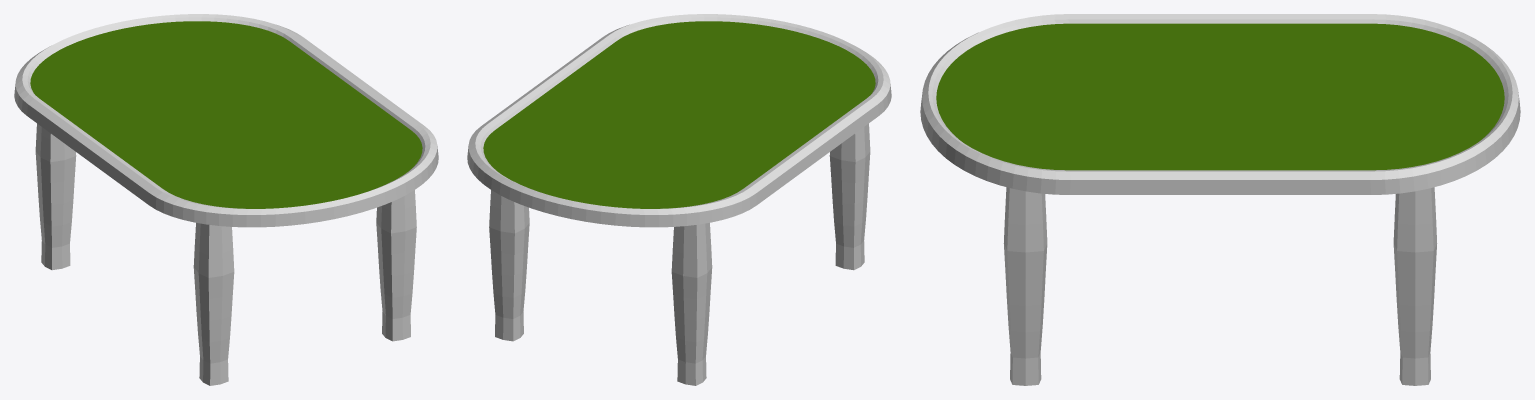
File: PokerTable.fbx
The picture shows the model from 3 angles, left to right: view 1: azimuth 30°, elevation 25°; view 2: azimuth 150°, elevation 25°; view 3: azimuth 270°, elevation 25°; orthographic projection. The views are drawn at different scales.
Parts seen in each view (by area): view 1: PokerTabelTop, PokerTableLegs, PokerTabelOut; view 2: PokerTabelTop, PokerTableLegs, PokerTabelOut; view 3: PokerTabelTop, PokerTabelOut, PokerTableLegs.
Part boxes in pixels (left/top/right/bottom): PokerTabelTop: left=30, top=21, right=422, bottom=208; PokerTableLegs: left=35, top=123, right=416, bottom=385; PokerTabelOut: left=14, top=14, right=438, bottom=227; PokerTabelTop: left=483, top=21, right=875, bottom=208; PokerTableLegs: left=489, top=123, right=870, bottom=385; PokerTabelOut: left=467, top=14, right=891, bottom=227; PokerTabelTop: left=936, top=23, right=1504, bottom=170; PokerTabelOut: left=920, top=14, right=1520, bottom=194; PokerTableLegs: left=1003, top=187, right=1437, bottom=385.
Size of the model in its own units: 388 by 252 by 591.
